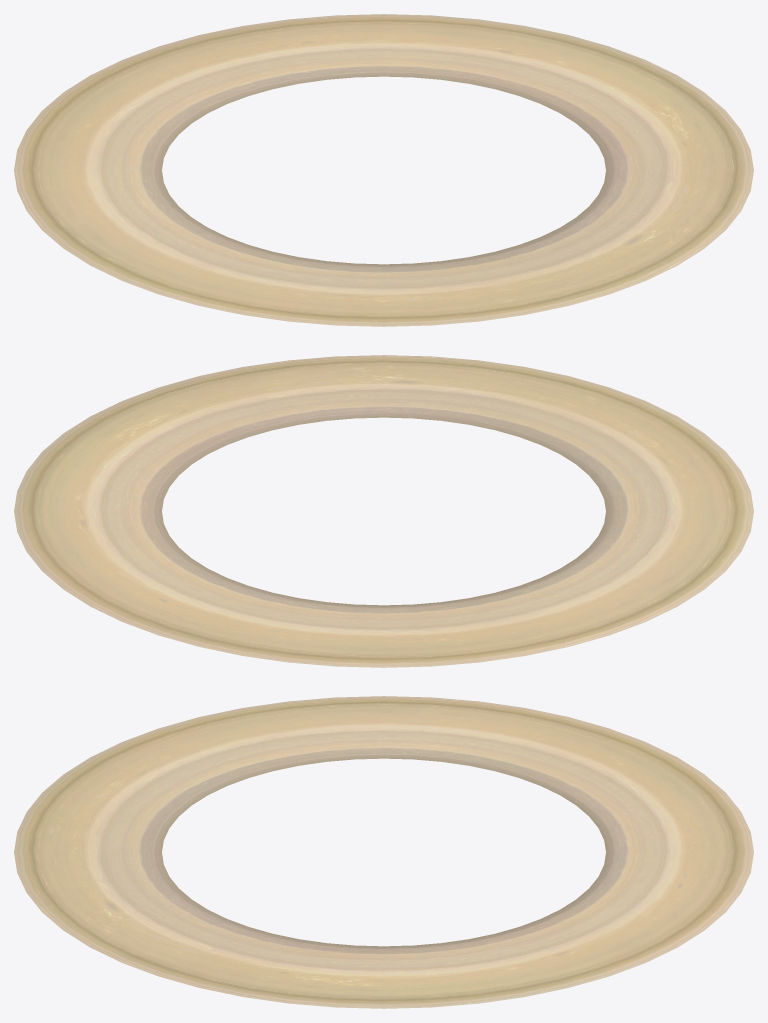
The model's file is saturn_ring.obj.
The picture shows the model from 3 angles, top to bottom: view 1: azimuth 30°, elevation 25°; view 2: azimuth 150°, elevation 25°; view 3: azimuth 270°, elevation 25°; orthographic projection.
Visible parts, largest first — view 1: Torus; view 2: Torus; view 3: Torus.
Part boxes in pixels (x1,y1,x2,y2): Torus: (14,14,753,326); Torus: (14,355,753,667); Torus: (14,696,753,1008).
Size of the model in its own units: 2.5 by 0.015 by 2.5.
1 material, 1 textured.
